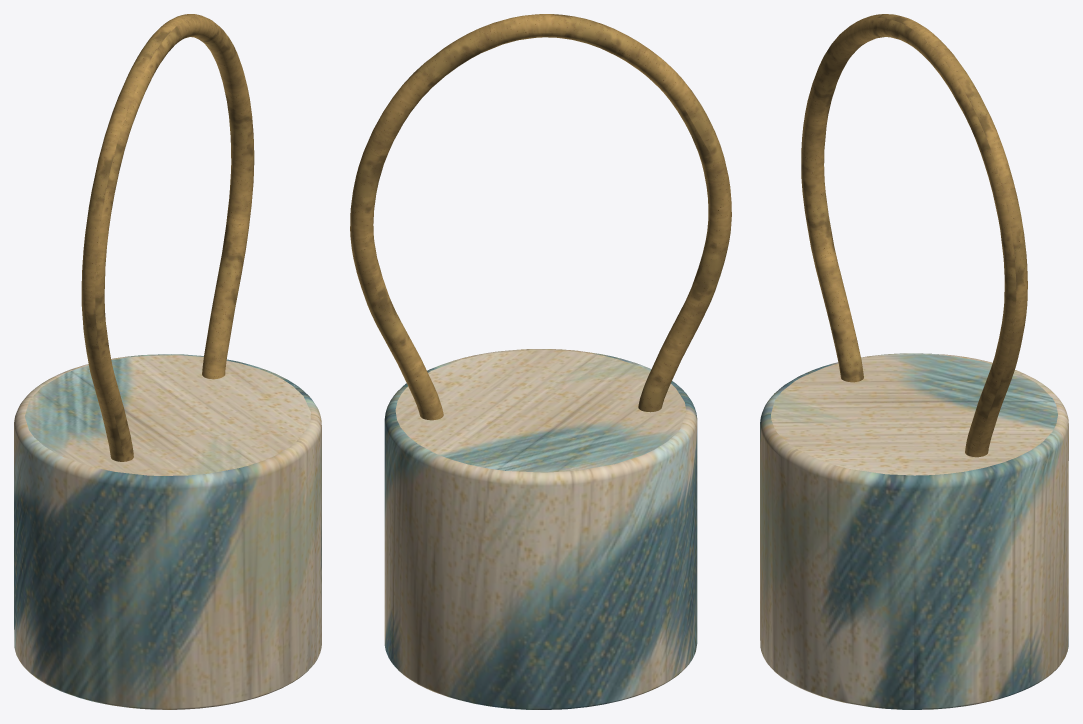
File: rook-white.glb
The picture shows the model from 3 angles, left to right: view 1: azimuth 30°, elevation 25°; view 2: azimuth 150°, elevation 25°; view 3: azimuth 270°, elevation 25°; orthographic projection.
Parts seen in each view (by area): view 1: Telo, Oblouk; view 2: Telo, Oblouk; view 3: Telo, Oblouk.
Boxes of the visible parts, x1,y1,x2,y2 form: Telo: (14,354,321,709); Oblouk: (81,14,254,461); Telo: (384,349,697,709); Oblouk: (350,14,731,420); Telo: (760,353,1068,709); Oblouk: (801,14,1027,457).
Bounding box in the file's own units: 0.6497 × 1.42 × 0.6385.
Materials: 2 (2 with a texture image).
